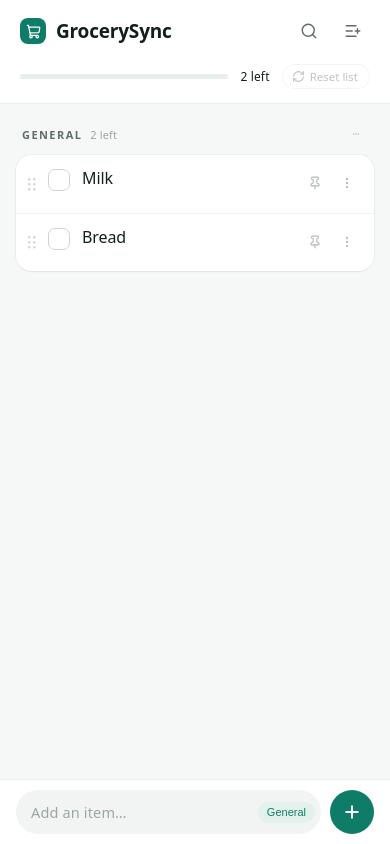
Test case: search filters the visible items
# Search is revealed by the header search button.
Click the button named "Search items". click: click(309, 31)
box: [292, 14, 326, 48]
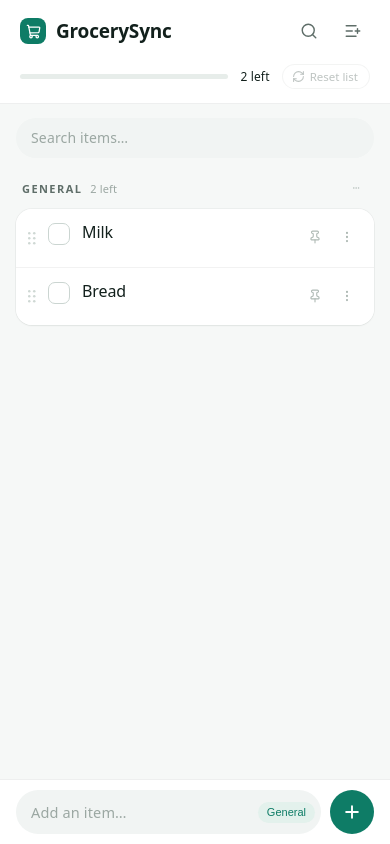
Type "milk" into the field with placeholder "Search items…". click: (195, 138)
box: [31, 123, 359, 152]
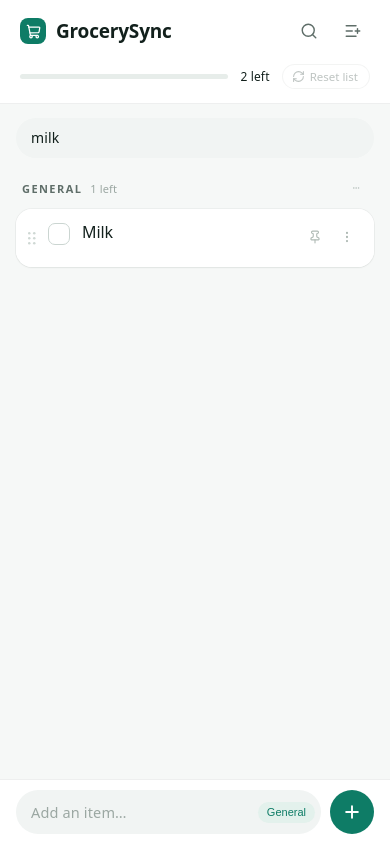
Expected: the text "Milk" is shown, [82, 221, 113, 243]
Result: the text "Bread" is gone
